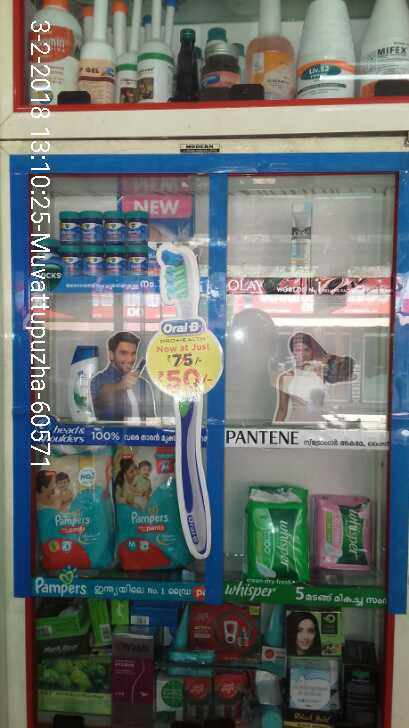vicks: (68, 207, 151, 275)
